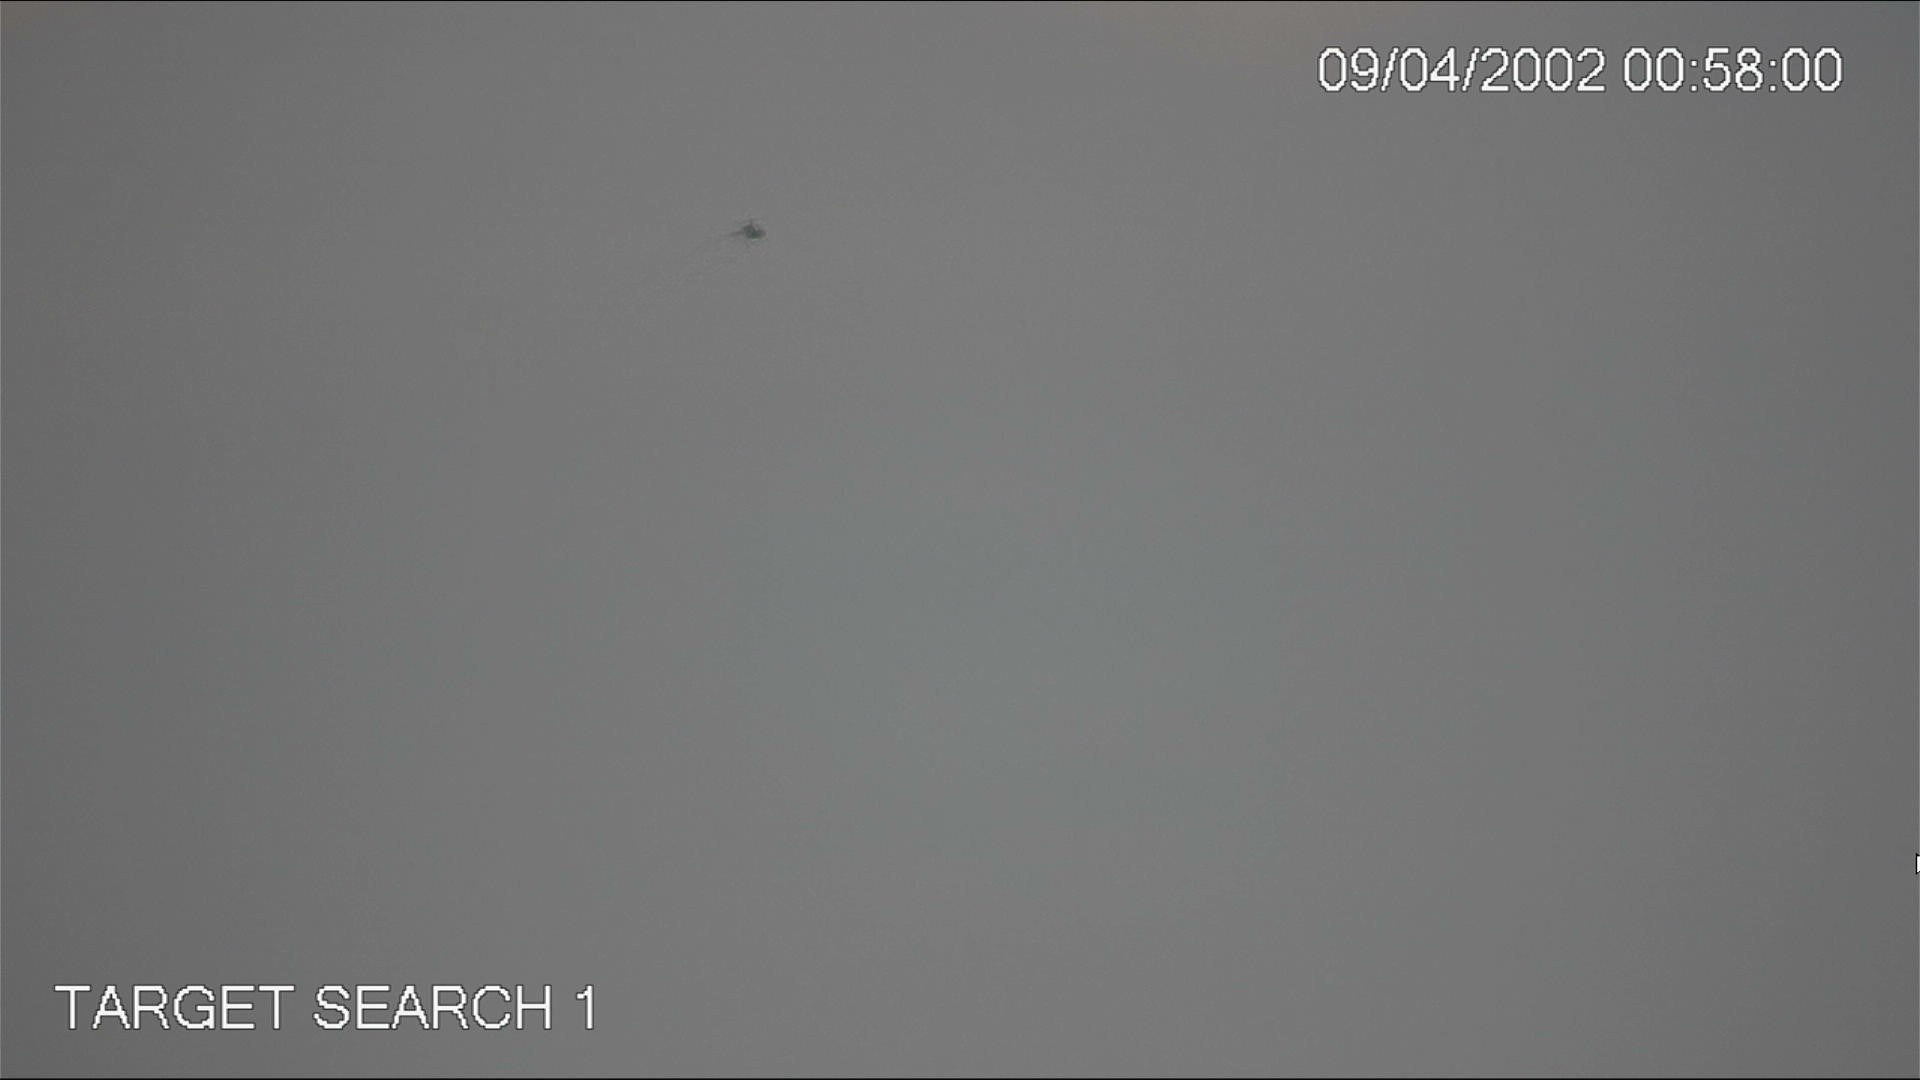SU_30: (725, 216, 766, 245)
